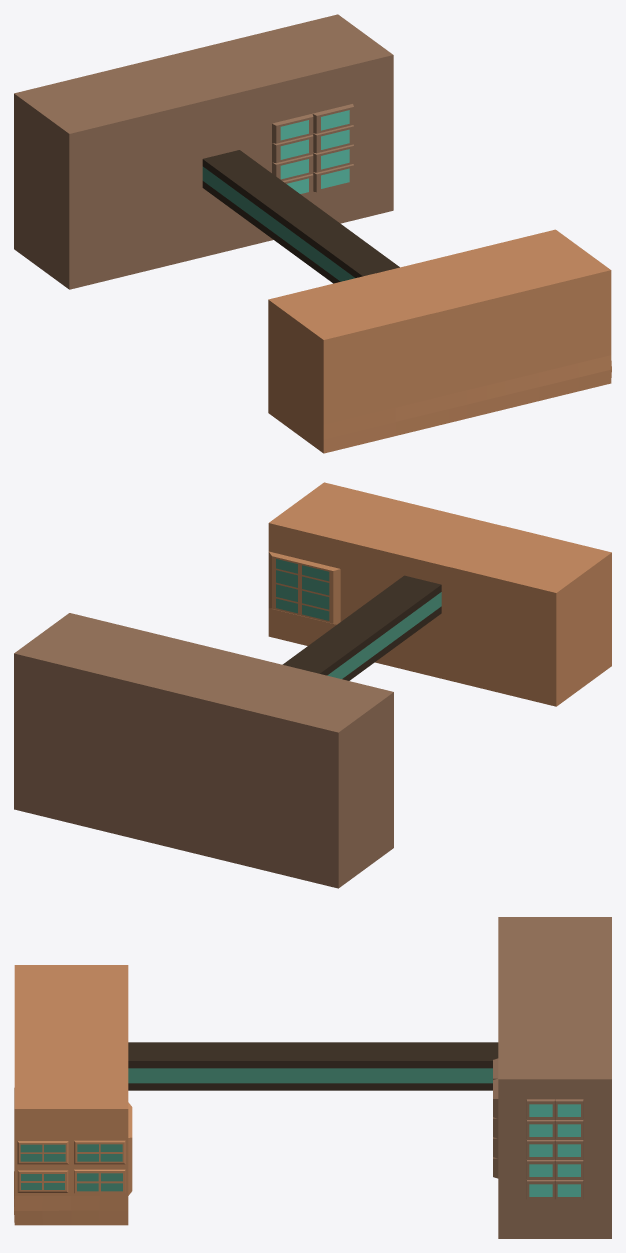
Rendered from buildings+bridge.fbx.
The picture shows the model from 3 angles, top to bottom: view 1: azimuth 30°, elevation 25°; view 2: azimuth 150°, elevation 25°; view 3: azimuth 270°, elevation 25°; orthographic projection. The views are drawn at different scales.
Visible parts, largest first — view 1: Cube.002-0, Cube-0, Cube.001-1, Cube.002-1, Cube.001-0; view 2: Cube.002-0, Cube-0, Cube.001-1, Cube-1, Cube.001-0; view 3: Cube.002-0, Cube-0, Cube.001-1, Cube.001-0, Cube.002-1, Cube-1.
Part boxes in pixels (bbox=[...]): Cube.002-0: bbox=[14, 14, 393, 289]; Cube-0: bbox=[268, 229, 611, 453]; Cube.001-1: bbox=[202, 150, 399, 283]; Cube.002-1: bbox=[280, 110, 349, 193]; Cube.001-0: bbox=[202, 166, 355, 281]; Cube.002-0: bbox=[14, 613, 393, 888]; Cube-0: bbox=[268, 482, 611, 706]; Cube.001-1: bbox=[282, 575, 441, 680]; Cube-1: bbox=[276, 559, 329, 620]; Cube.001-0: bbox=[327, 592, 441, 678]; Cube.002-0: bbox=[493, 917, 611, 1238]; Cube-0: bbox=[14, 965, 132, 1225]; Cube.001-1: bbox=[128, 1042, 498, 1090]; Cube.001-0: bbox=[128, 1068, 492, 1083]; Cube.002-1: bbox=[529, 1104, 580, 1196]; Cube-1: bbox=[20, 1144, 122, 1191].
Size of what is drawn, in the model's own units: 25.71 by 11.69 by 39.69.
